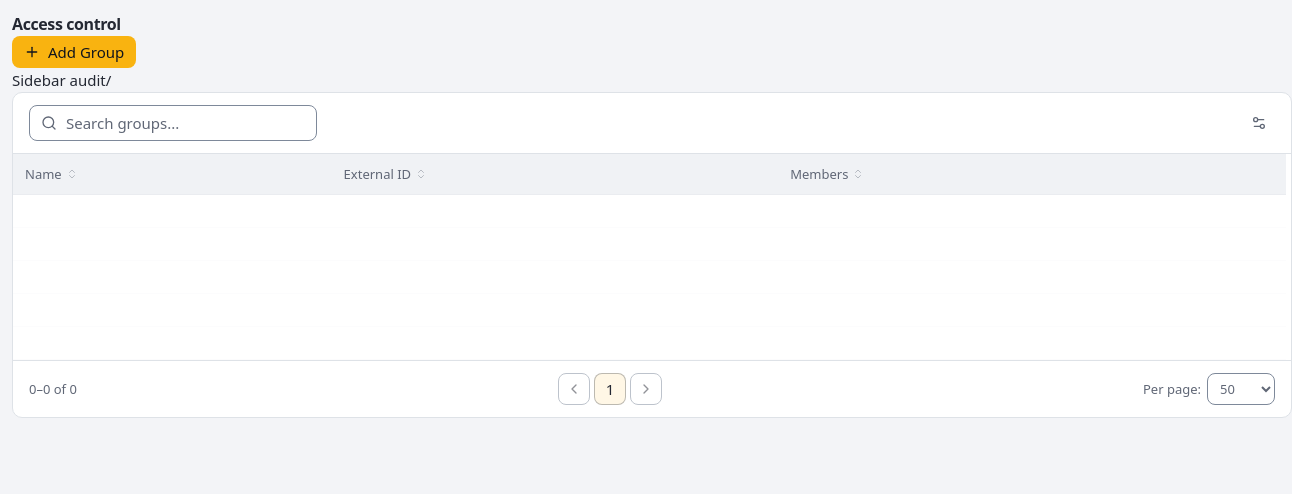
Scenario: group editor › retains required-name validation before creation
This screenshot has width=1292, height=494.
Step 1. Click the button "Add Group" → coordinates (74, 52), box [12,36,136,68]
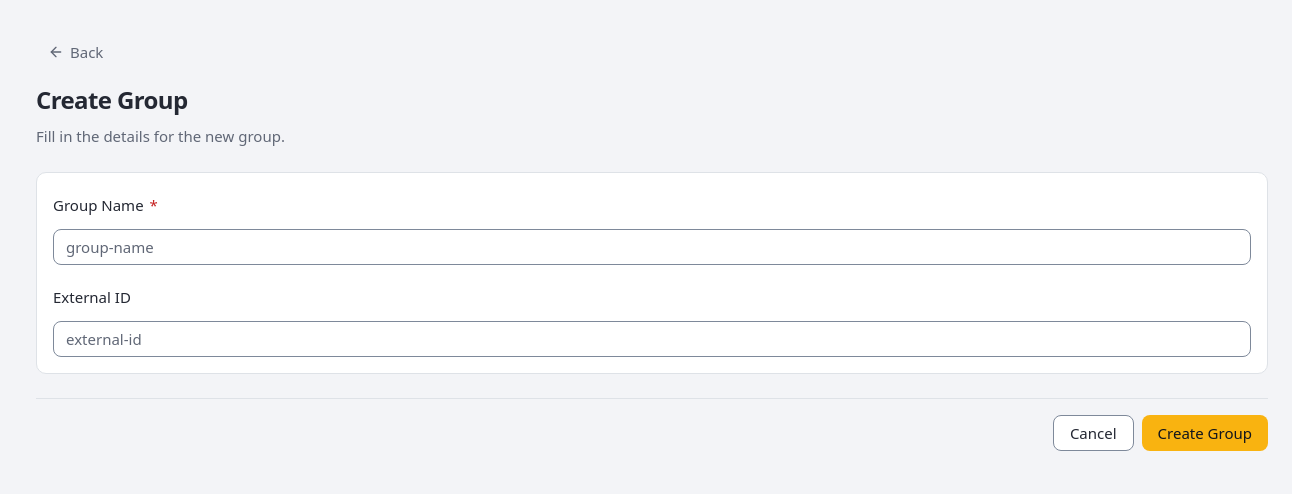
Step 2. Click the button "Create Group" → coordinates (1205, 433), box [1142,415,1268,451]
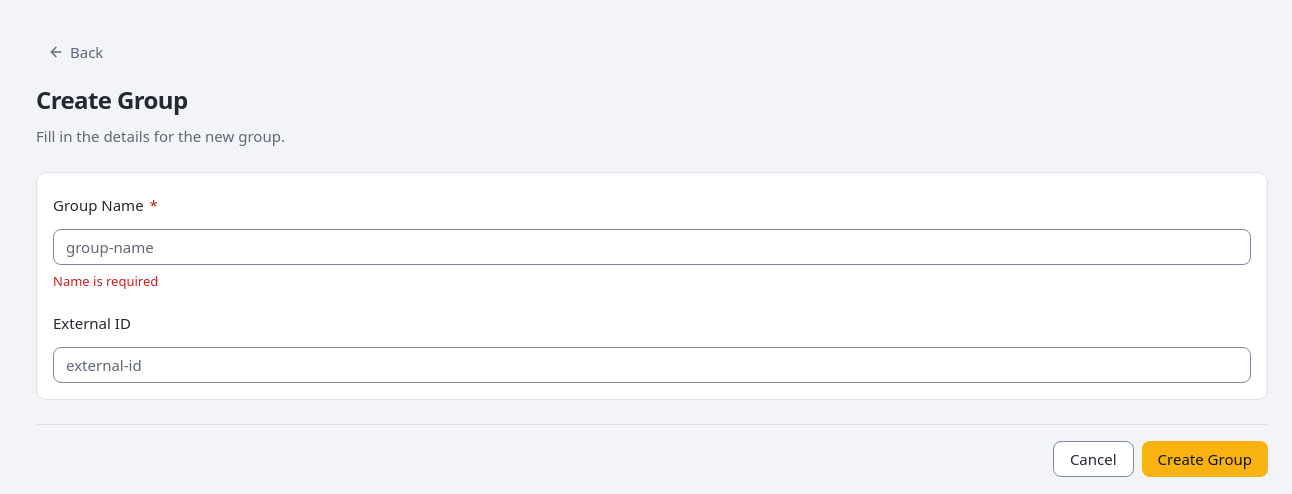
Result: the message "Name is required" is shown at [53,272,158,290]
